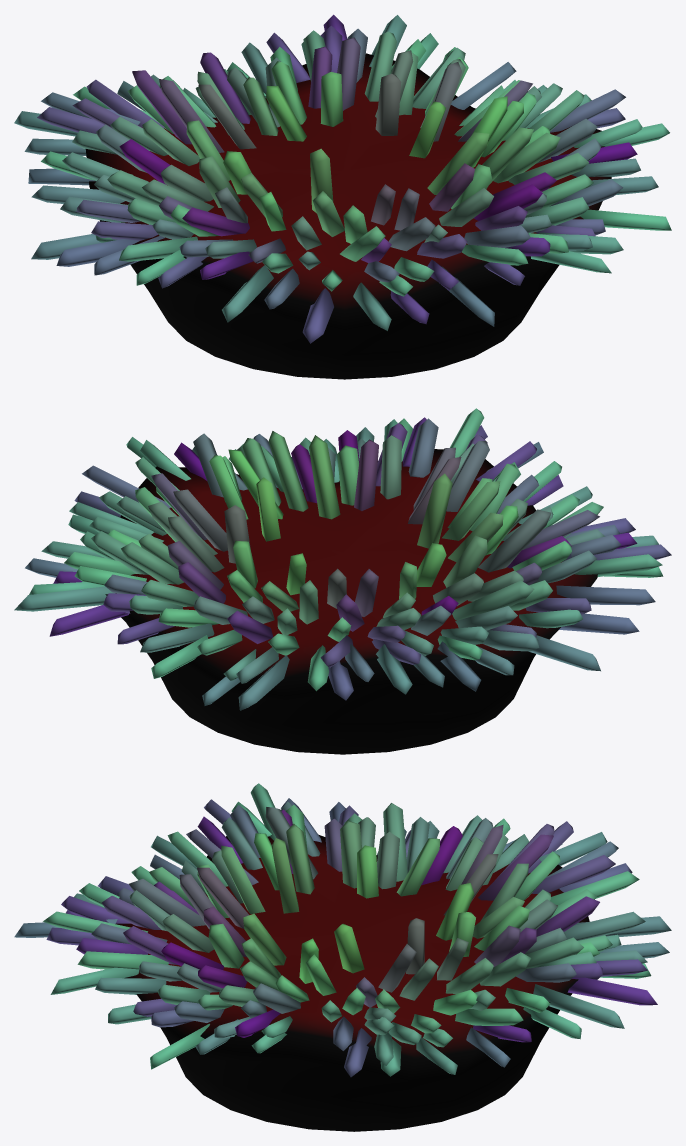
File: clownfish_anemone_game.glb
The picture shows the model from 3 angles, top to bottom: view 1: azimuth 30°, elevation 25°; view 2: azimuth 150°, elevation 25°; view 3: azimuth 270°, elevation 25°; orthographic projection. The views are drawn at different scales.
Parts seen in each view (by area): view 1: clownfish_anemone_game; view 2: clownfish_anemone_game; view 3: clownfish_anemone_game.
Part boxes in pixels (x1,y1,x2,y2): clownfish_anemone_game: [14, 14, 671, 379]; clownfish_anemone_game: [14, 408, 671, 754]; clownfish_anemone_game: [14, 783, 671, 1131].
Bounding box in the file's own units: 0.5102 × 0.1684 × 0.5281.
